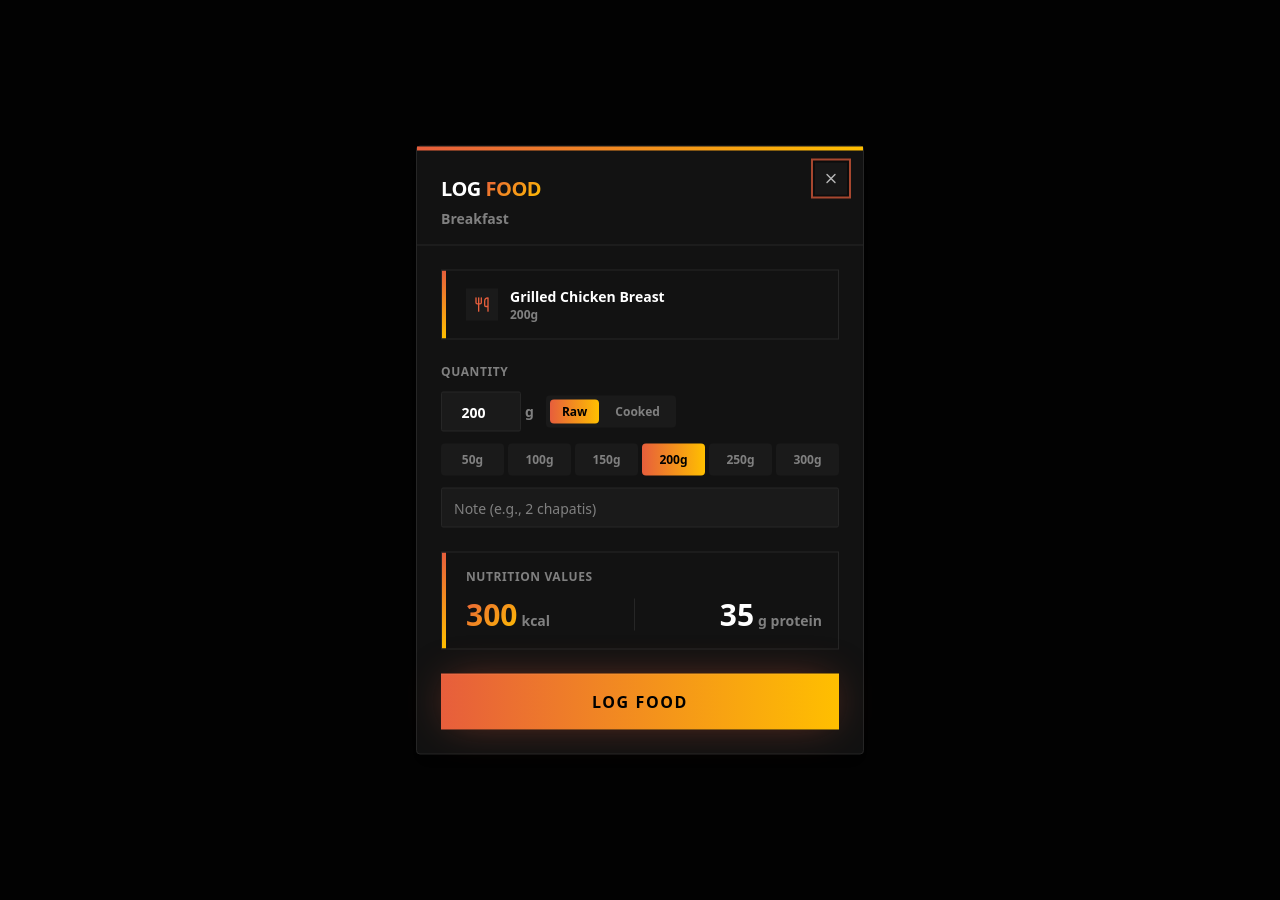
Test case: FoodLogForm Component › calculates nutrition values correctly with different quantity
This screenshot has width=1280, height=900.
# Click 100g preset (which is 0.5x of 200g raw quantity)
Click the button "100g" at x=540, y=460, box [508,444,571,476]
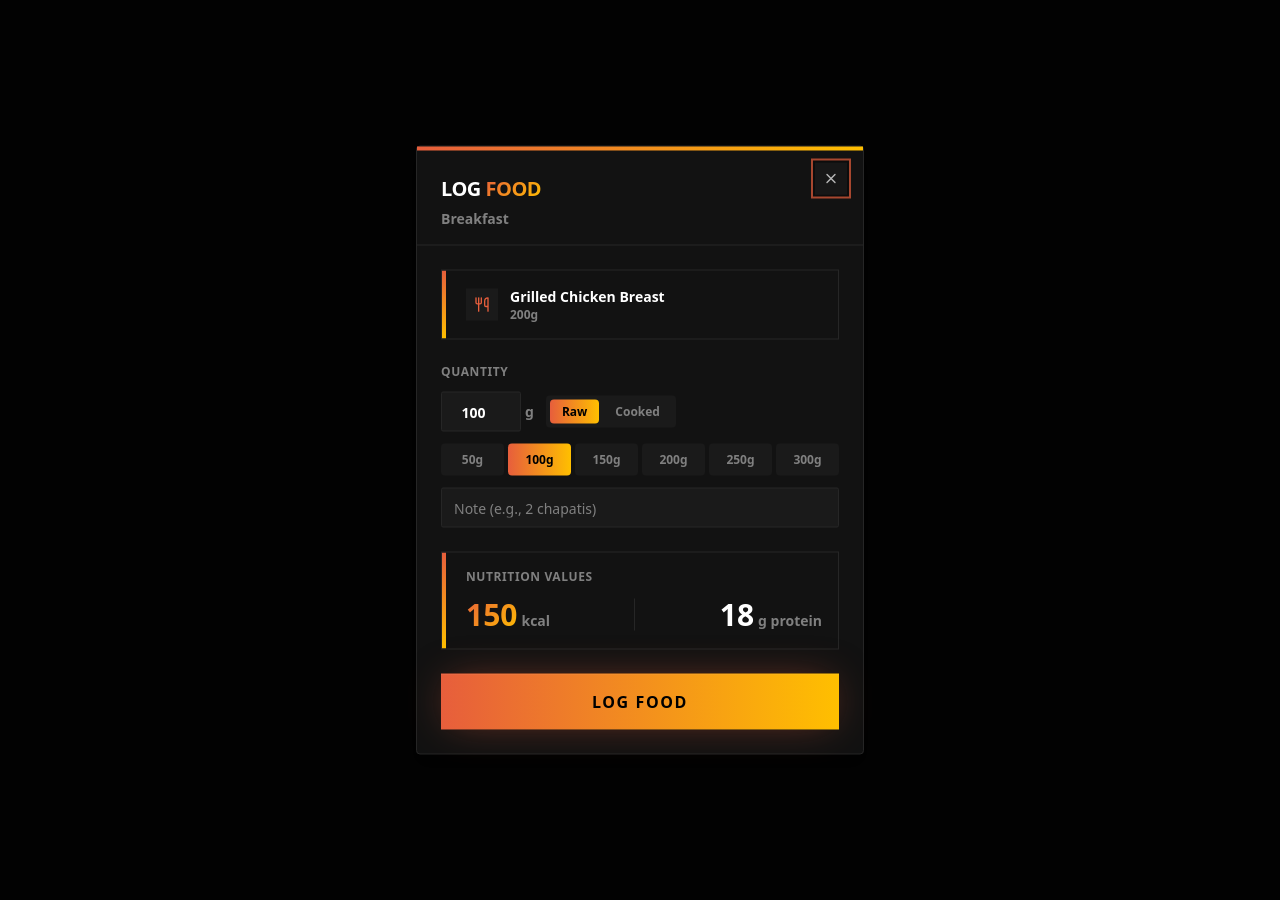
Expected: the text "150" is shown, [466,594,518,634]
Expected: the text "18" is shown, [720,594,754,634]
